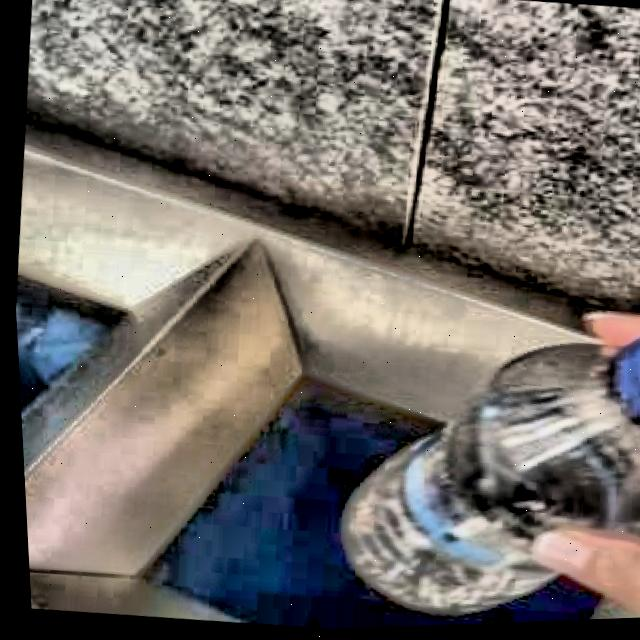plastic: (339, 342, 640, 617)
